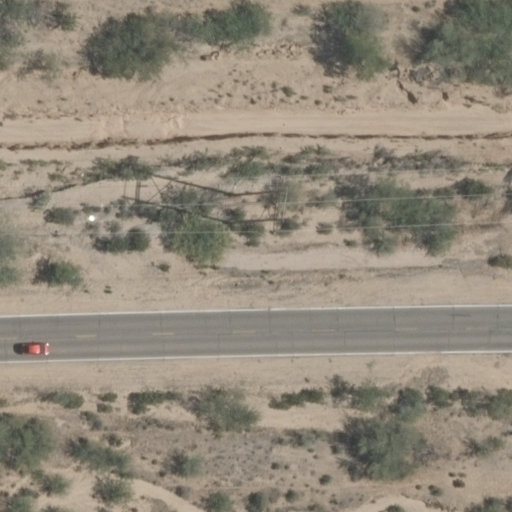DT: (218, 176, 298, 240)
